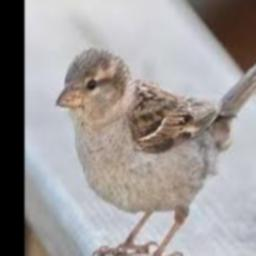Sparrow: (55, 47, 256, 256)
